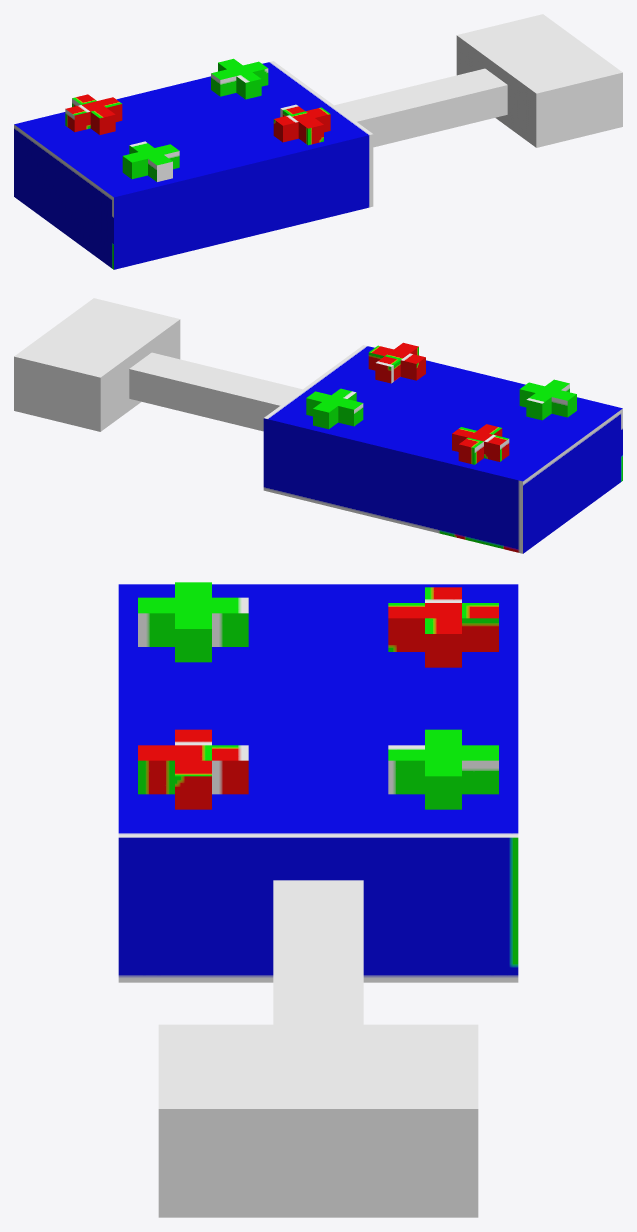
The model's file is Mutation Remote.fbx.
The picture shows the model from 3 angles, top to bottom: view 1: azimuth 30°, elevation 25°; view 2: azimuth 150°, elevation 25°; view 3: azimuth 270°, elevation 25°; orthographic projection. The views are drawn at different scales.
Parts seen in each view (by area): view 1: Mutation Remote; view 2: Mutation Remote; view 3: Mutation Remote.
Part boxes in pixels (box(x1,y1,x2,y2)): Mutation Remote: box(14, 14, 622, 269); Mutation Remote: box(14, 298, 622, 553); Mutation Remote: box(118, 582, 518, 1217).
Bounding box in the file's own units: 3 × 1 × 0.4923.
